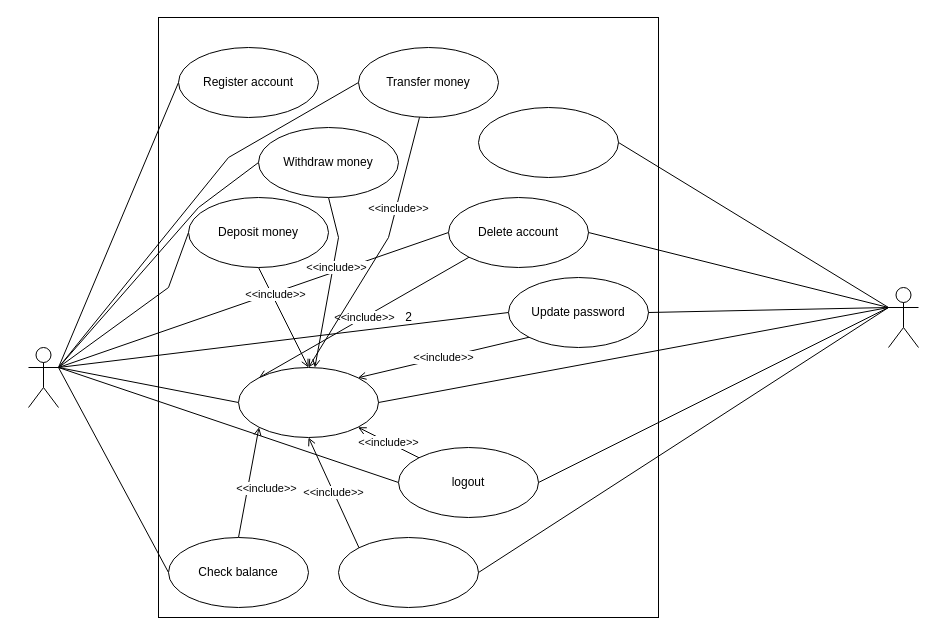
This 937x635 diagram has some shape labels left out. The box of each missing label's shape, as (x1, y1, x2, y2) in pixels:
Admin: (888, 286, 918, 348)
Create account: (478, 106, 618, 178)
Customer: (28, 346, 58, 408)
login: (238, 366, 378, 438)
View stats: (338, 536, 478, 608)
